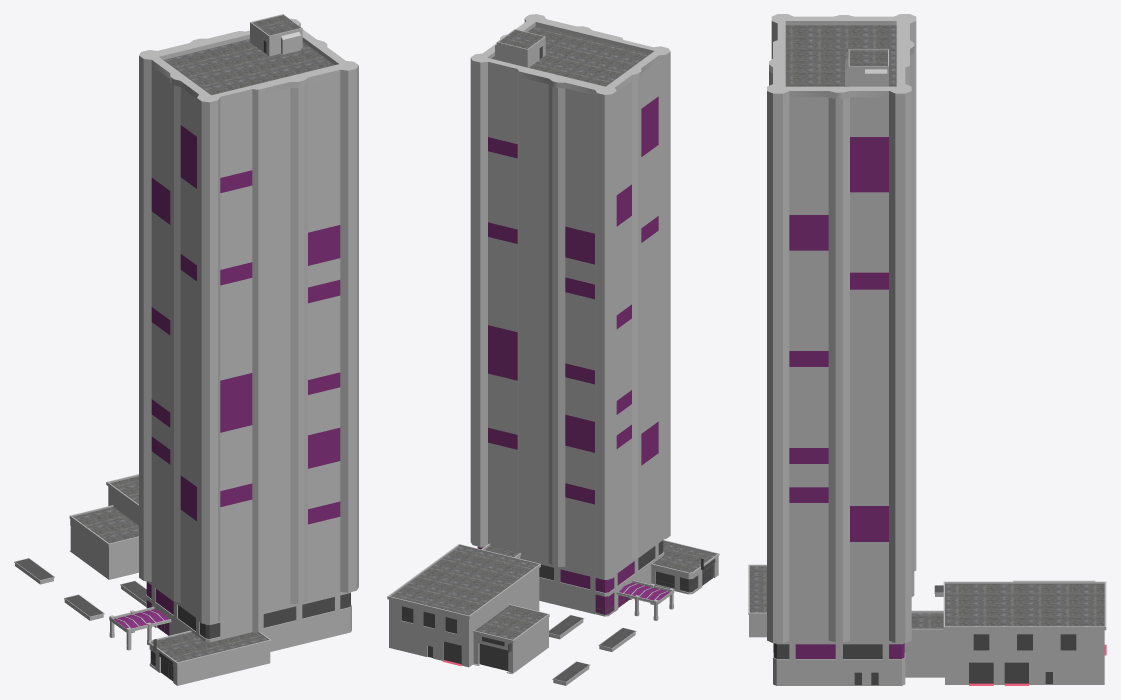
Rendered from mcp_building_03_LOD_1.FBX.
3 renders of one model, left to right at view 1: azimuth 30°, elevation 25°; view 2: azimuth 150°, elevation 25°; view 3: azimuth 270°, elevation 25°, orthographic. The views are drawn at different scales.
Parts seen in each view (by area): view 1: mcp_building_03_walls_02, mcp_building_03_walls_01, mcp_building_03_roof, mcp_building_03_concrete, mcp_building_03, mcp_building_03_ground, mcp_building_03_glass_01; view 2: mcp_building_03_walls_02, mcp_building_03_roof, mcp_building_03_walls_01, mcp_building_03_concrete, mcp_building_03, mcp_building_03_ground, mcp_building_03_glass_01; view 3: mcp_building_03_walls_02, mcp_building_03_roof, mcp_building_03_walls_01, mcp_building_03_concrete, mcp_building_03.
Boxes of the visible parts, bbox=[...] form: mcp_building_03_walls_02: bbox=[139, 62, 358, 624]; mcp_building_03_walls_01: bbox=[15, 24, 351, 683]; mcp_building_03_roof: bbox=[73, 15, 334, 662]; mcp_building_03_concrete: bbox=[14, 14, 358, 685]; mcp_building_03: bbox=[70, 40, 350, 681]; mcp_building_03_ground: bbox=[16, 558, 146, 616]; mcp_building_03_glass_01: bbox=[114, 609, 168, 628]; mcp_building_03_walls_02: bbox=[470, 57, 670, 579]; mcp_building_03_roof: bbox=[391, 26, 716, 639]; mcp_building_03_walls_01: bbox=[389, 38, 718, 685]; mcp_building_03_concrete: bbox=[387, 14, 719, 682]; mcp_building_03: bbox=[401, 46, 715, 670]; mcp_building_03_ground: bbox=[549, 615, 634, 681]; mcp_building_03_glass_01: bbox=[619, 582, 669, 600]; mcp_building_03_walls_02: bbox=[767, 27, 916, 643]; mcp_building_03_roof: bbox=[749, 25, 1104, 628]; mcp_building_03_walls_01: bbox=[749, 58, 1104, 683]; mcp_building_03_concrete: bbox=[748, 14, 1106, 685]; mcp_building_03: bbox=[774, 634, 1076, 685].
Bounding box in the file's own units: 4771 × 13469 × 7153.
